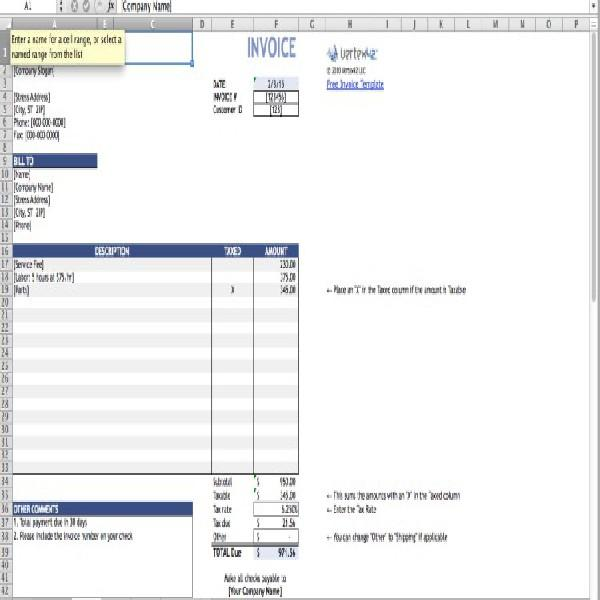test: (0, 14, 598, 599)
